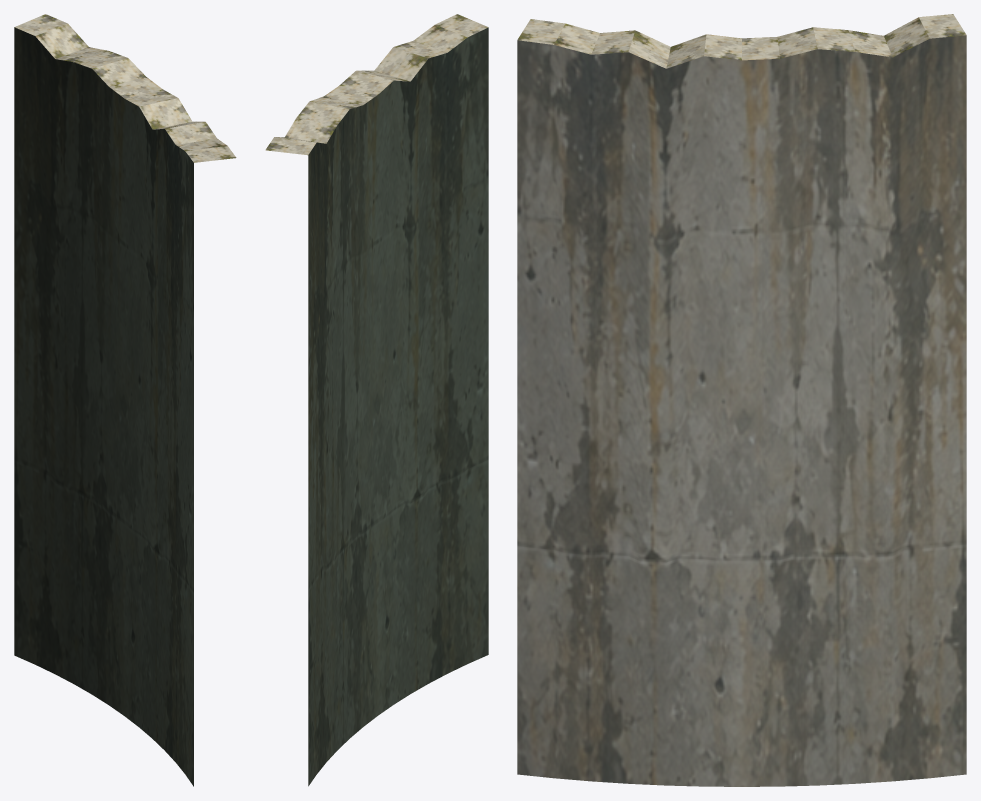
Rendered from Tank_Arc_A.glb.
3 views of the same model, side by side, from view 1: azimuth 30°, elevation 25°; view 2: azimuth 150°, elevation 25°; view 3: azimuth 270°, elevation 25° (orthographic). The views are drawn at different scales.
Visible parts, largest first — view 1: Tank_Arc_A; view 2: Tank_Arc_A; view 3: Tank_Arc_A.
Part boxes in pixels (bbox=[...]): Tank_Arc_A: bbox=[14, 14, 236, 786]; Tank_Arc_A: bbox=[265, 14, 488, 786]; Tank_Arc_A: bbox=[517, 14, 966, 786].
Size of the model in its own units: 0.6442 by 6.58 by 3.62.
1 material, 1 textured.
